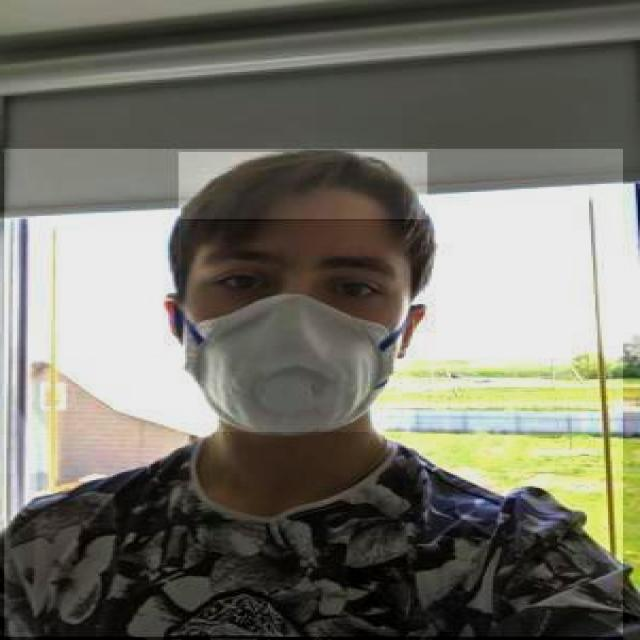face_mask: (178, 221, 410, 432)
head_nohelmet: (178, 152, 428, 219)
person: (2, 149, 623, 638)
